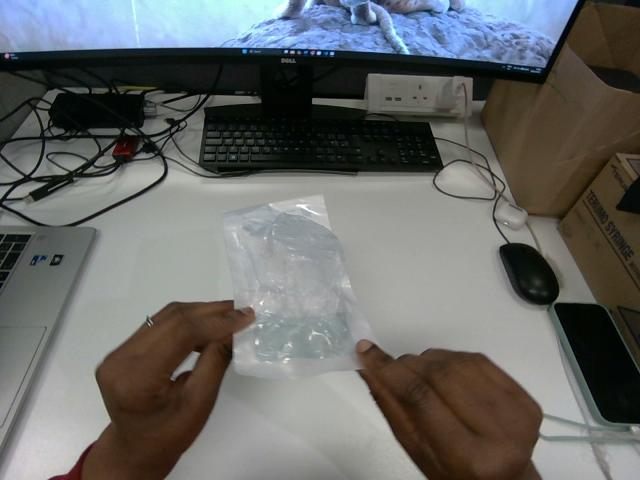gallipot: (224, 195, 373, 379)
